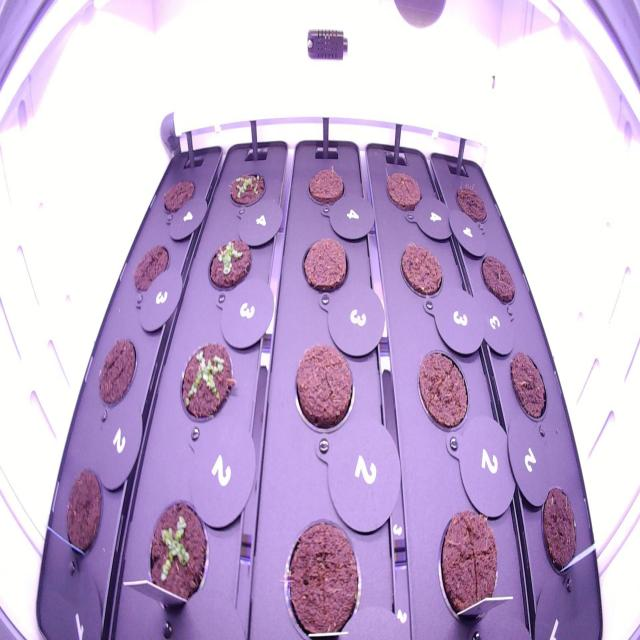germination: (138, 492, 212, 616), (174, 335, 236, 426), (203, 231, 254, 293), (226, 165, 270, 211)
pod: (276, 509, 366, 636), (429, 500, 504, 628), (289, 337, 359, 440), (412, 344, 476, 442), (60, 463, 106, 574), (537, 477, 581, 588), (506, 340, 553, 434), (94, 330, 140, 418), (298, 228, 350, 300), (395, 238, 446, 304), (301, 157, 349, 216), (129, 240, 172, 302), (475, 251, 517, 312), (381, 165, 426, 220), (451, 174, 493, 232), (159, 174, 197, 219)
